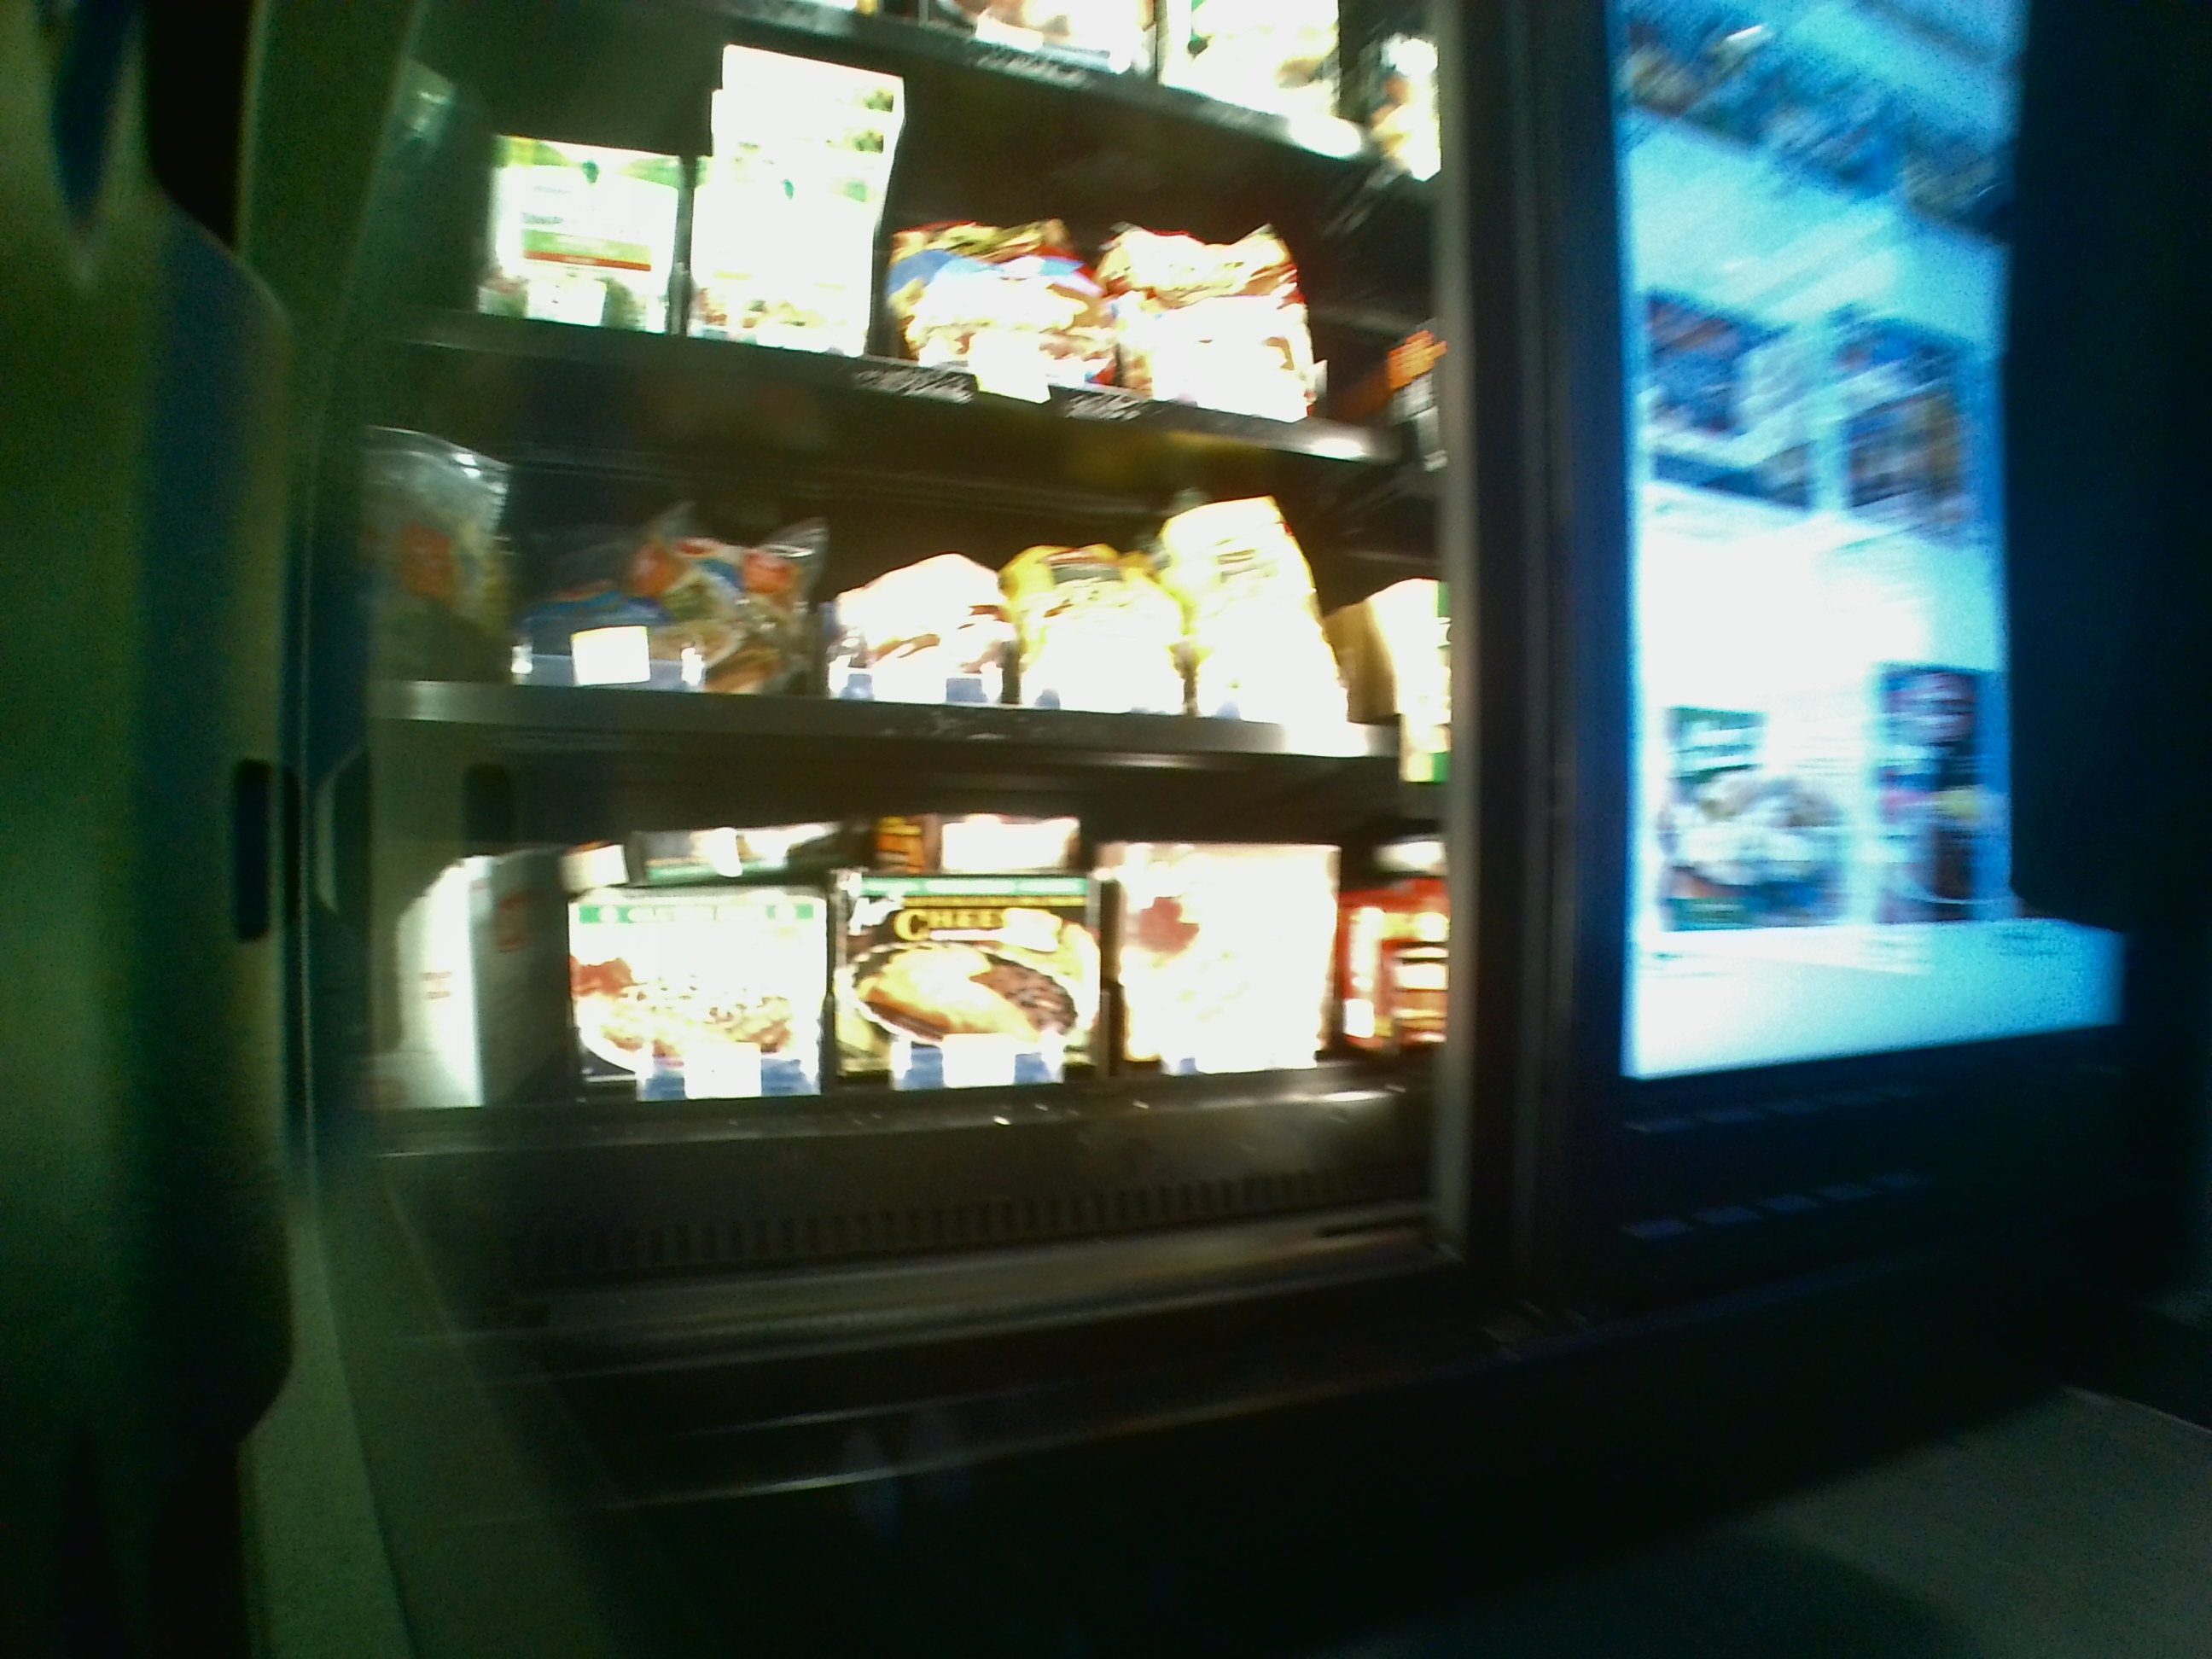shelf: (374, 769, 1439, 1244), (371, 345, 1446, 751)
